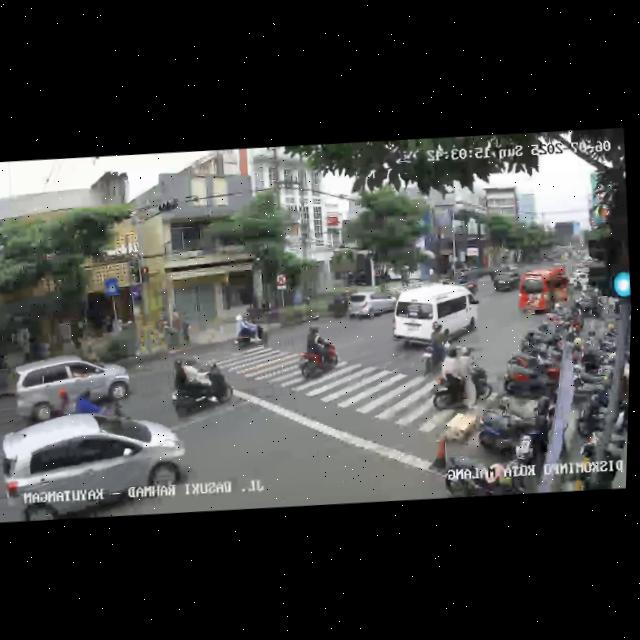car: (0, 402, 191, 524), (11, 348, 133, 419), (388, 280, 480, 350), (516, 266, 575, 318), (346, 289, 396, 322), (490, 266, 520, 294)
motorcycle: (166, 350, 236, 423), (429, 344, 496, 411), (53, 382, 123, 421), (296, 326, 341, 383), (418, 320, 457, 373), (233, 312, 269, 350), (326, 292, 349, 320)
